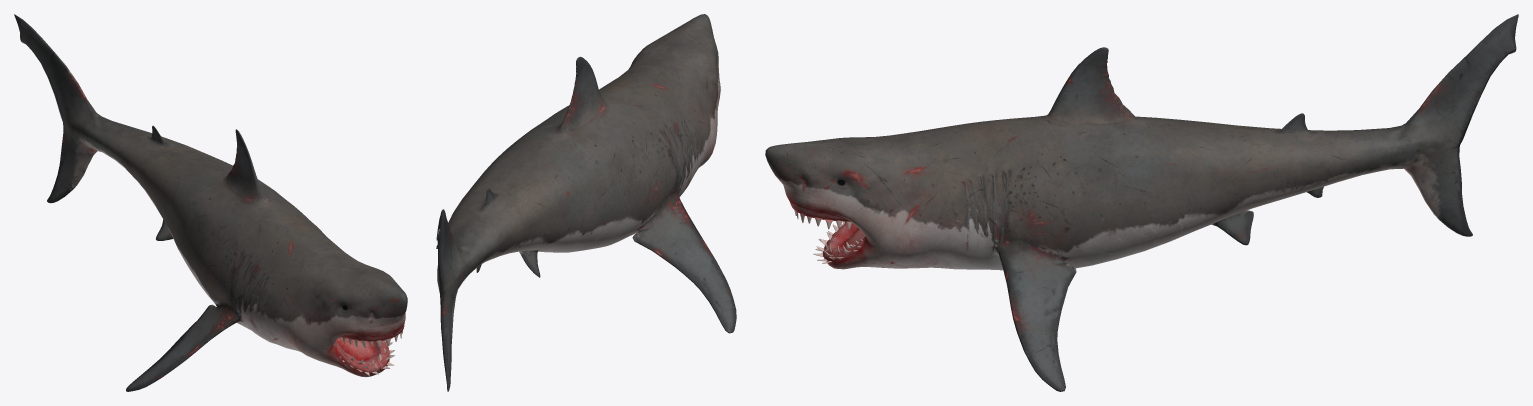
3 views of the same model, side by side, from view 1: azimuth 30°, elevation 25°; view 2: azimuth 150°, elevation 25°; view 3: azimuth 270°, elevation 25° (orthographic). The views are drawn at different scales.
Visible parts, largest first — view 1: Body_0, Teeth_0; view 2: Body_0; view 3: Body_0, Teeth_0.
Part boxes in pixels (<box>): Body_0: <box>14,14,407,391</box>; Teeth_0: <box>339,330,402,375</box>; Body_0: <box>436,14,736,391</box>; Body_0: <box>765,14,1518,391</box>; Teeth_0: <box>794,210,862,263</box>.
Bounding box in the file's own units: 8.52 × 6.86 × 17.25.
